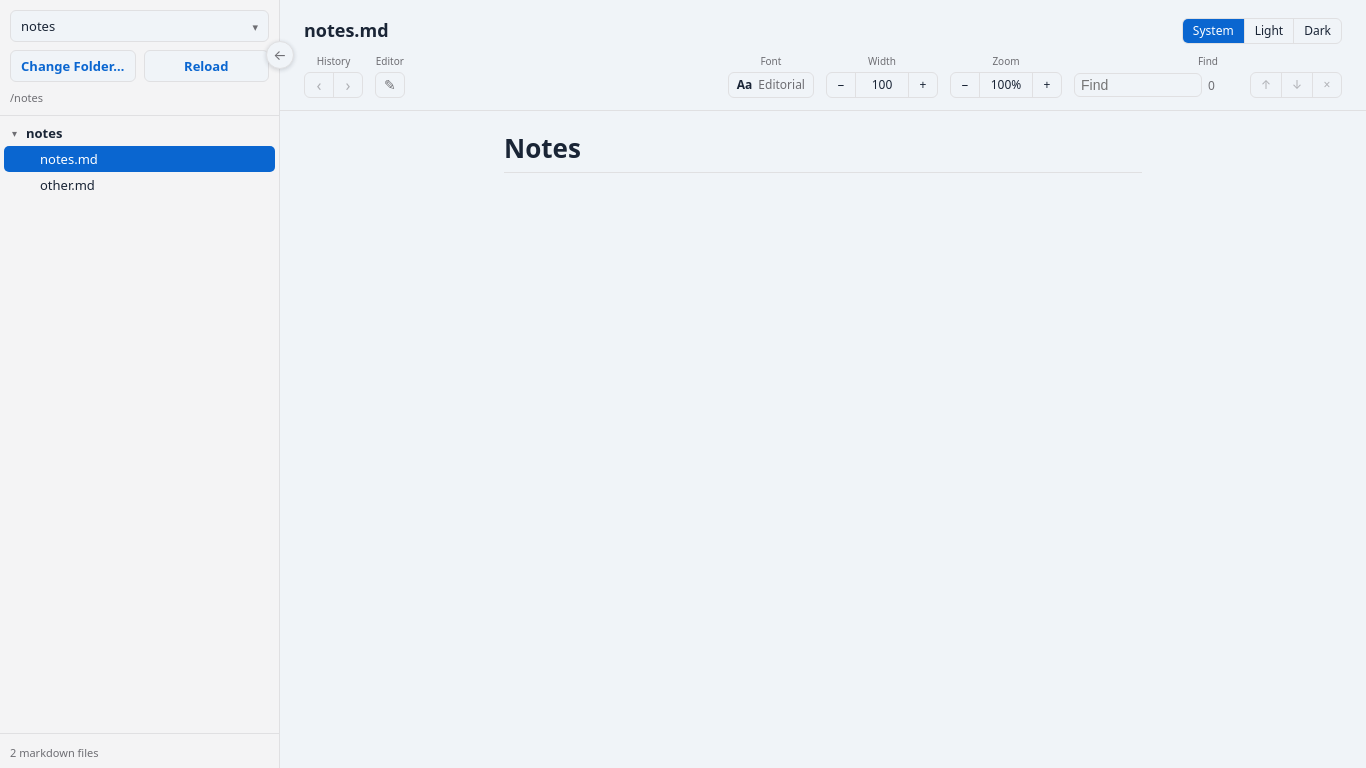
says so when the buffer no longer matches the file on disk
This screenshot has width=1366, height=768.
Expected: the heading "notes.md" is shown, x1=304 y1=18 x2=389 y2=42
Expected: the text "edited, not saved" is not shown
Click the button "✎": (390,85) x1=375 y1=72 x2=405 y2=98
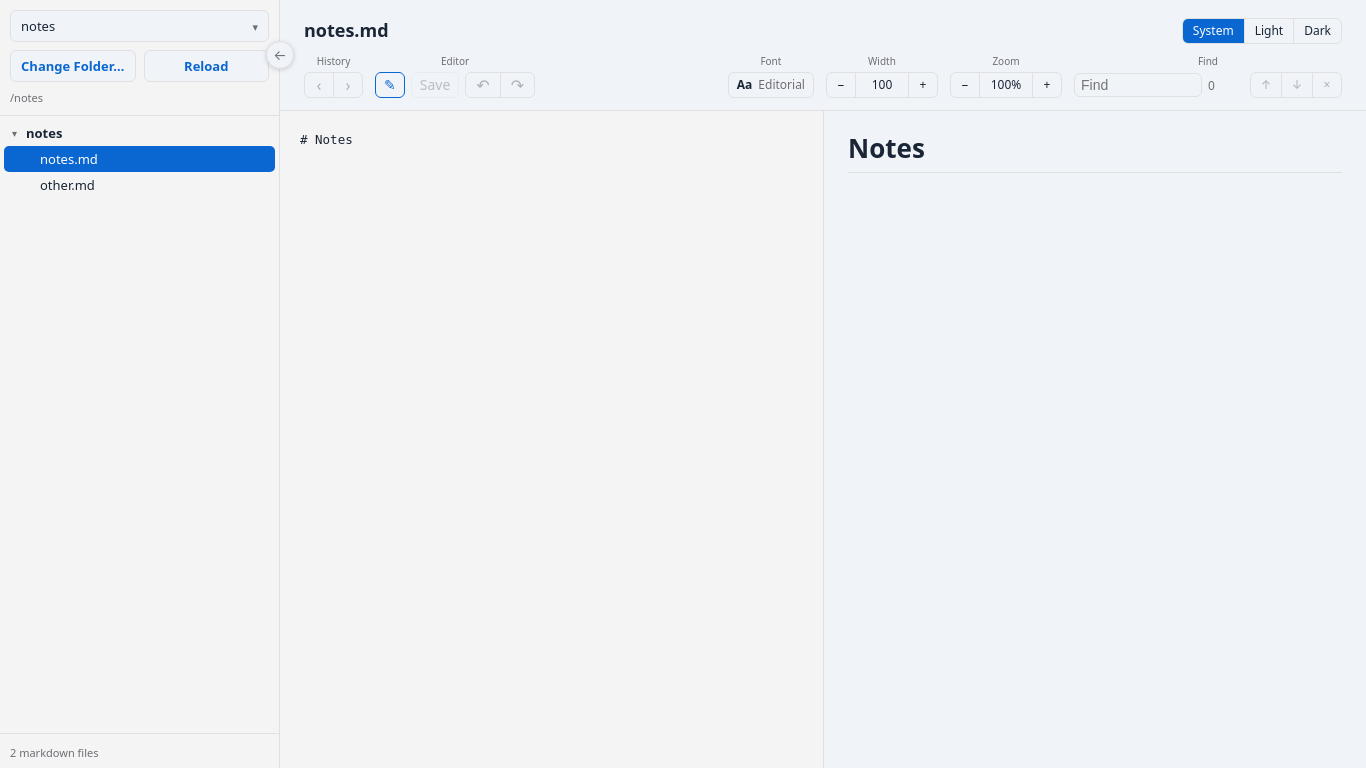
Replace the text in the text box named "Markdown source" with "# Changed": (552,440) x1=280 y1=111 x2=823 y2=767
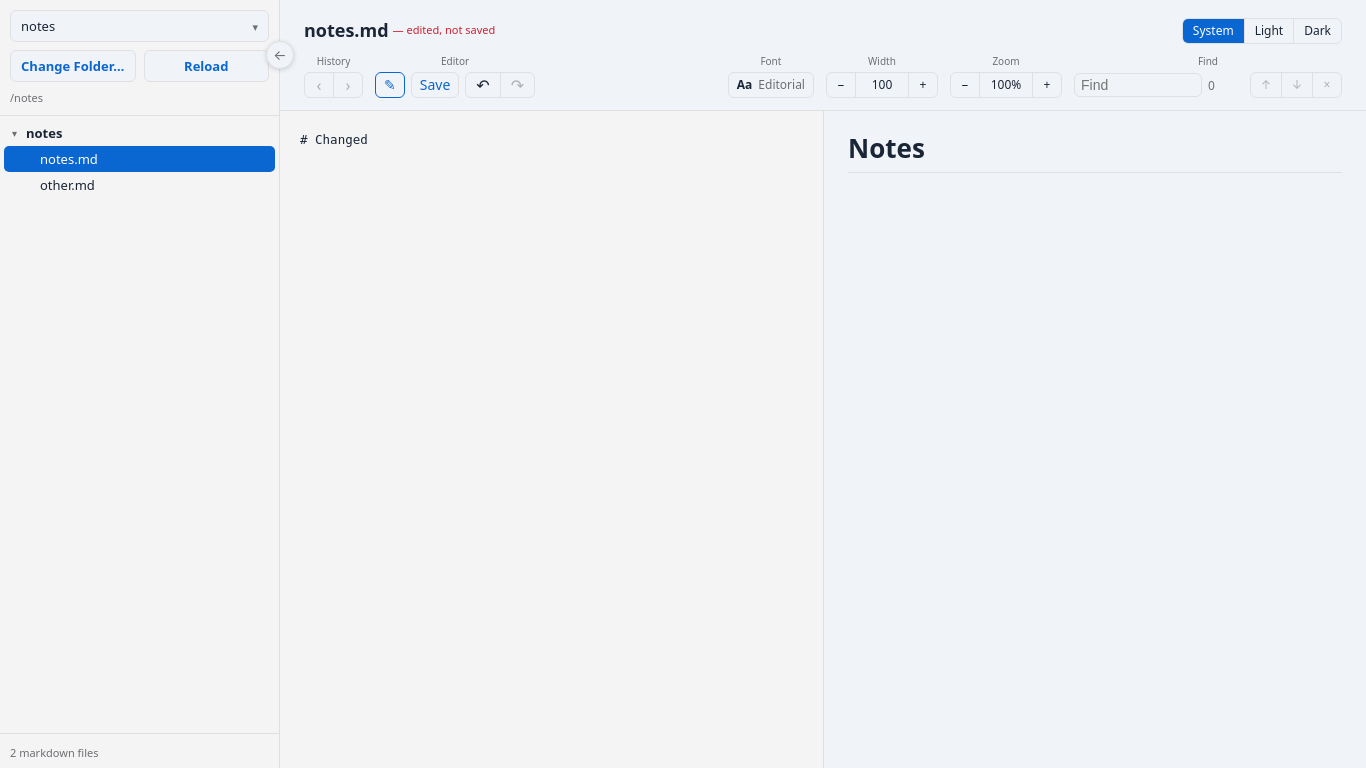
Expected: the text "— edited, not saved" is shown, x1=393 y1=22 x2=495 y2=42
